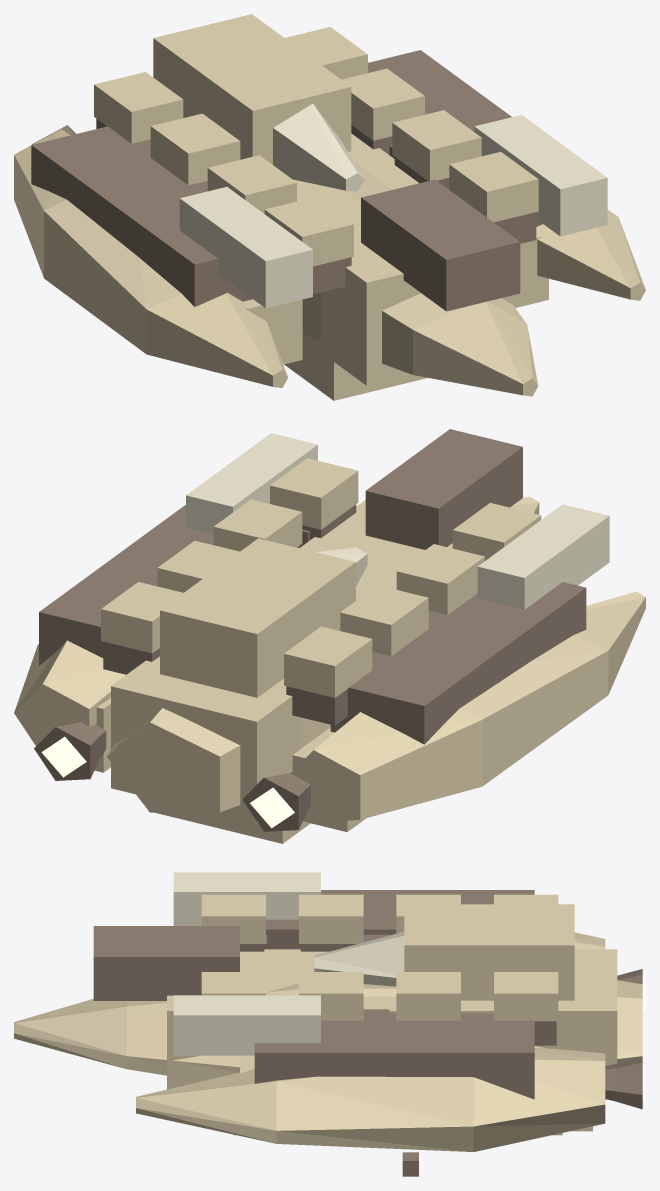
3 views of the same model, one above another, from view 1: azimuth 30°, elevation 25°; view 2: azimuth 150°, elevation 25°; view 3: azimuth 270°, elevation 25° (orthographic). The views are drawn at different scales.
Size of the model in its own units: 15.33 by 6.6 by 20.76.
